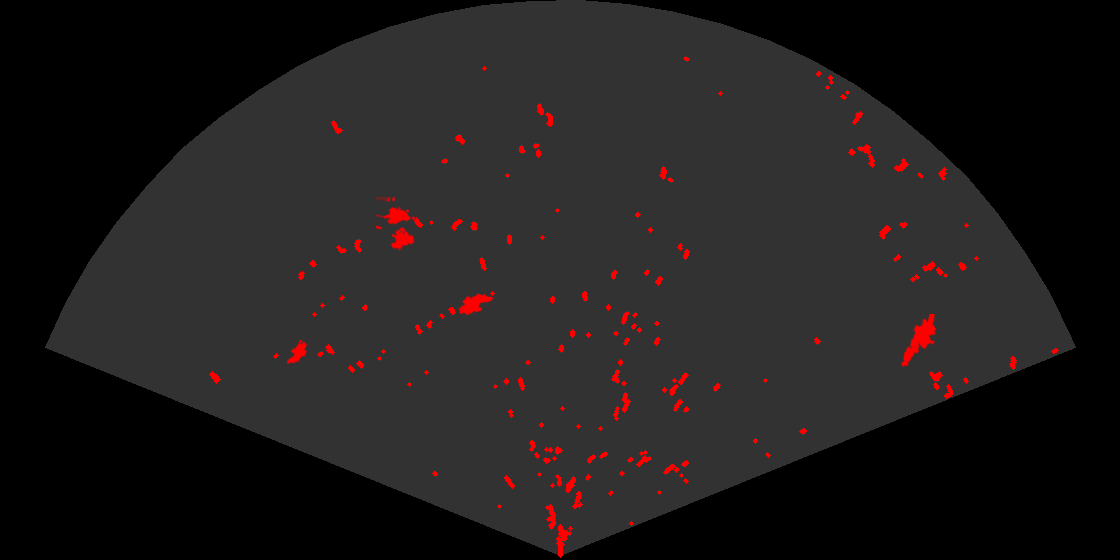AUV: (457, 292, 495, 317), (285, 340, 309, 369)
cage: (376, 197, 417, 251)
frogman: (900, 314, 938, 369)
